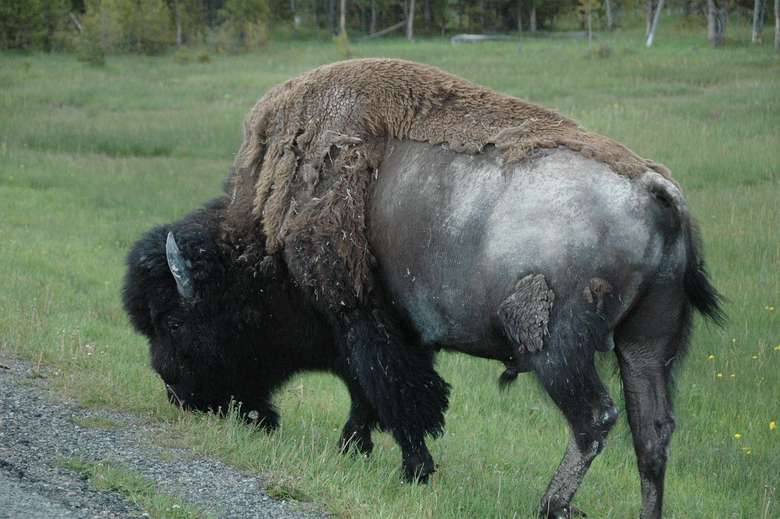zubr: (87, 38, 721, 519)
